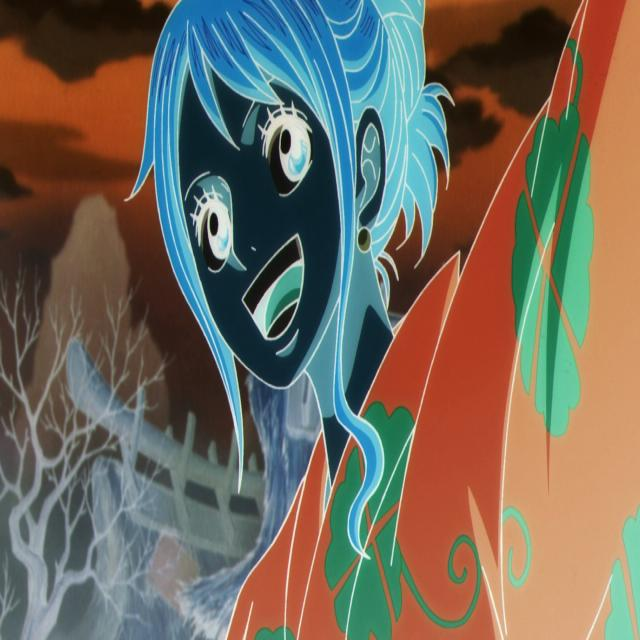Nami: (136, 0, 640, 640)
